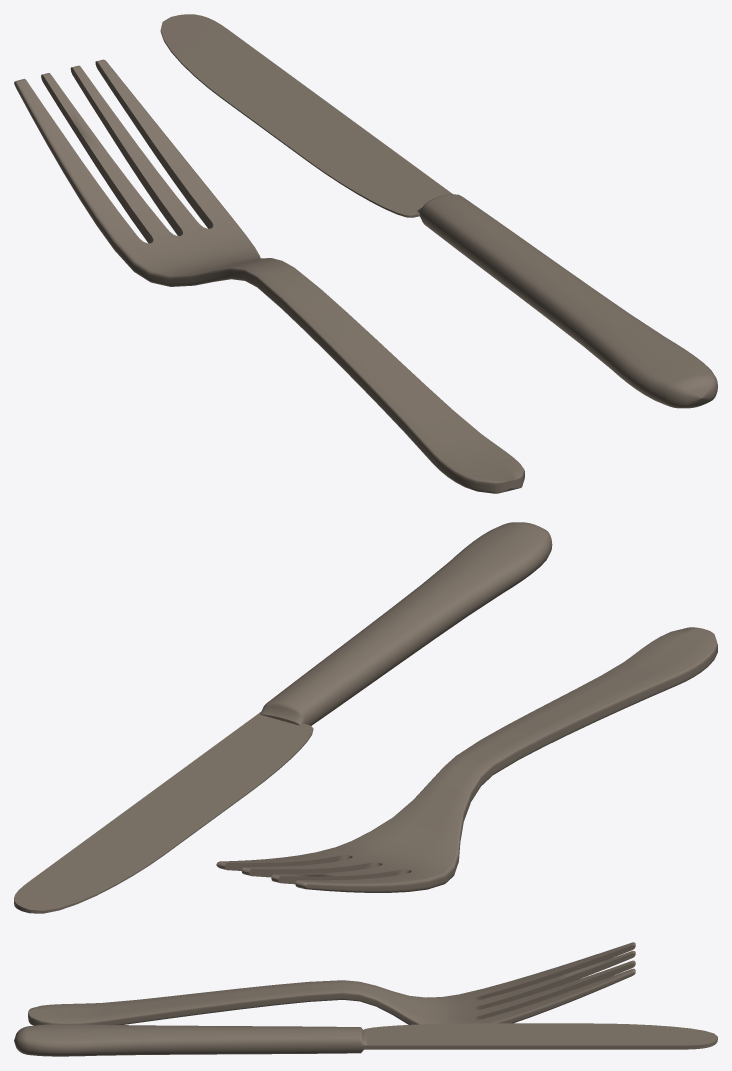
3 views of the same model, one above another, from view 1: azimuth 30°, elevation 25°; view 2: azimuth 150°, elevation 25°; view 3: azimuth 270°, elevation 25° (orthographic). The views are drawn at different scales.
Visible parts, largest first — view 1: fork, knife; view 2: knife, fork; view 3: knife, fork.
Part boxes in pixels (box(x1,y1,x2,y2)): fork: box(14, 59, 524, 493); knife: box(160, 14, 717, 408); knife: box(14, 522, 552, 913); fork: box(216, 627, 717, 892); knife: box(14, 1023, 717, 1056); fork: box(28, 942, 635, 1025).
Bounding box in the file's own units: 66.88 × 22.54 × 222.
